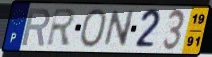2: (131, 8, 164, 52)
3: (161, 7, 187, 53)
N: (101, 9, 137, 49)
O: (78, 8, 108, 50)
R: (45, 8, 78, 49), (20, 7, 52, 47)
